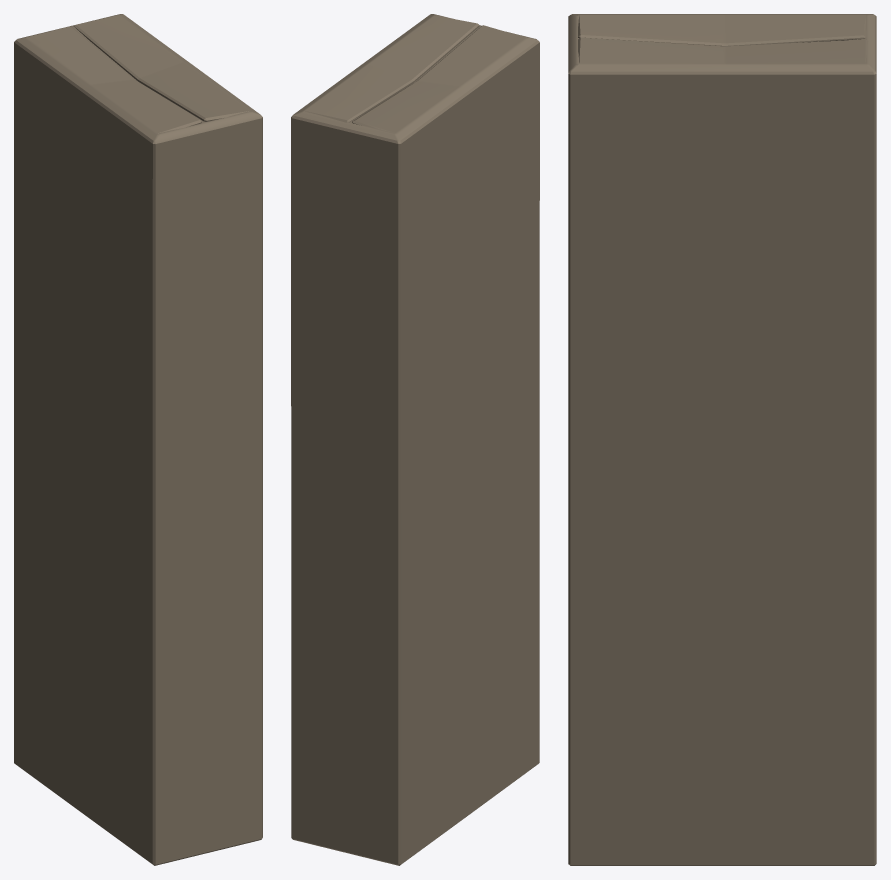
Rendered from A4A_CloseBox.fbx.
3 views of the same model, side by side, from view 1: azimuth 30°, elevation 25°; view 2: azimuth 150°, elevation 25°; view 3: azimuth 270°, elevation 25° (orthographic). The views are drawn at different scales.
Parts seen in each view (by area): view 1: pCube4; view 2: pCube4; view 3: pCube4.
Part boxes in pixels (x1=…): pCube4: x1=14, y1=14, x2=262, y2=865; pCube4: x1=291, y1=14, x2=539, y2=865; pCube4: x1=568, y1=14, x2=876, y2=865.
Bounding box in the file's own units: 0.4517 × 2.87 × 1.
